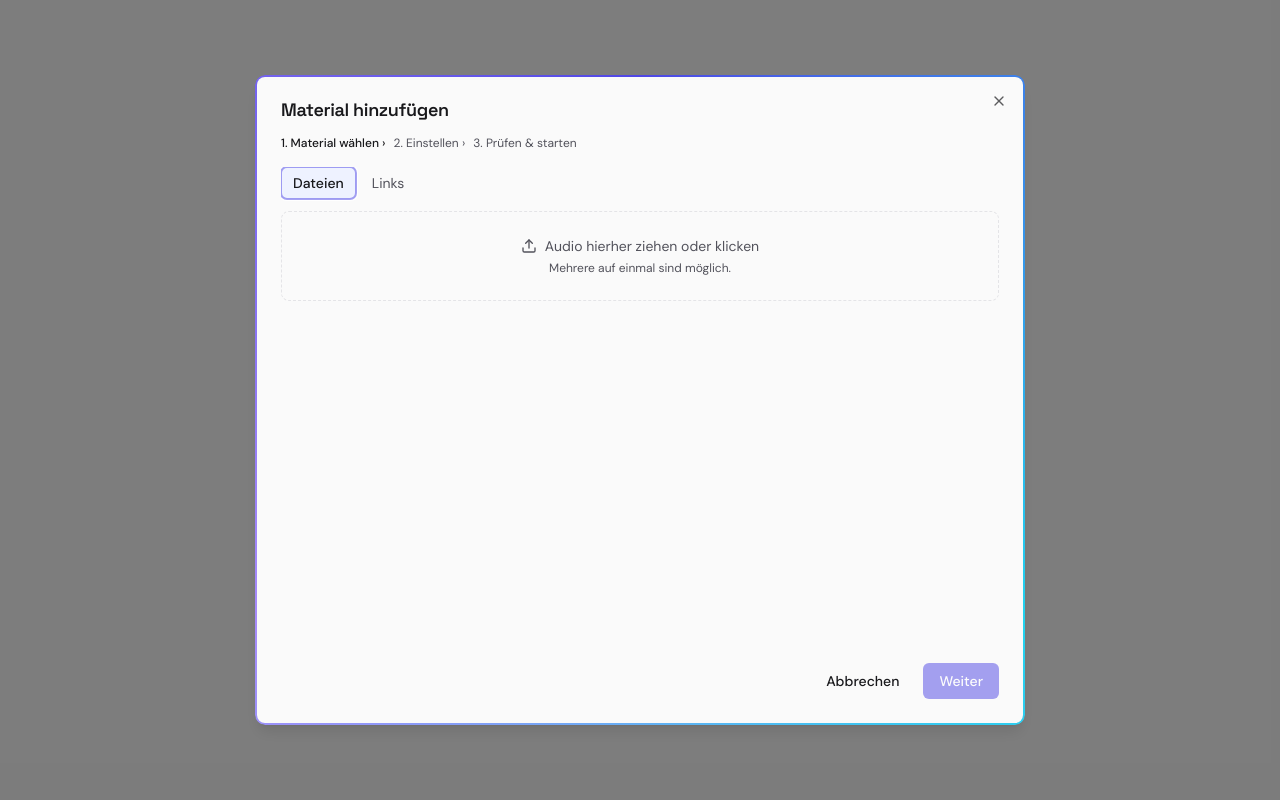
Test case: MaterialDialog › bietet Links nach einem GEWOEHNLICHEN Fehlschlag weiter an
Click the tab "Links" at [388, 183], box [360,167,416,199]
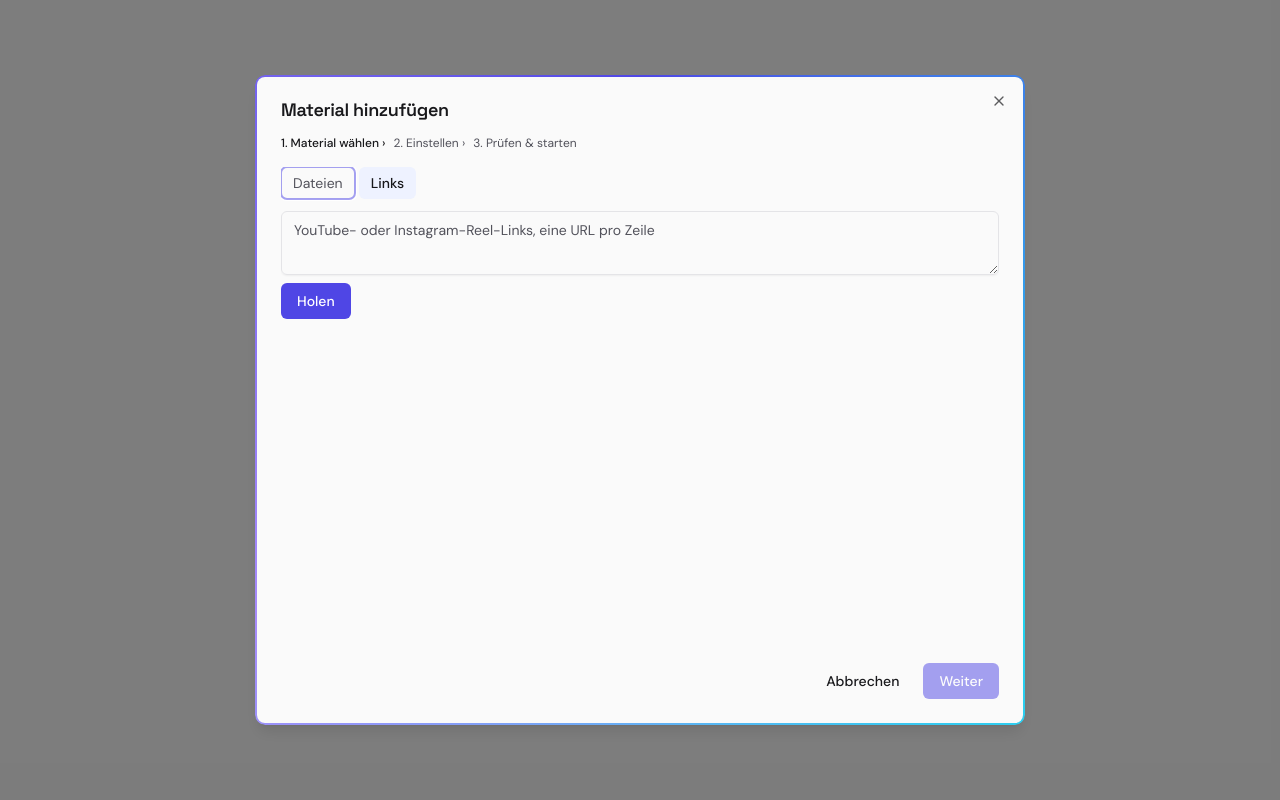
Type "https://youtu.be/bbbbbbbbbbb" into the text box named "Video-URLs" at [640, 243], box [281,211,999,275]
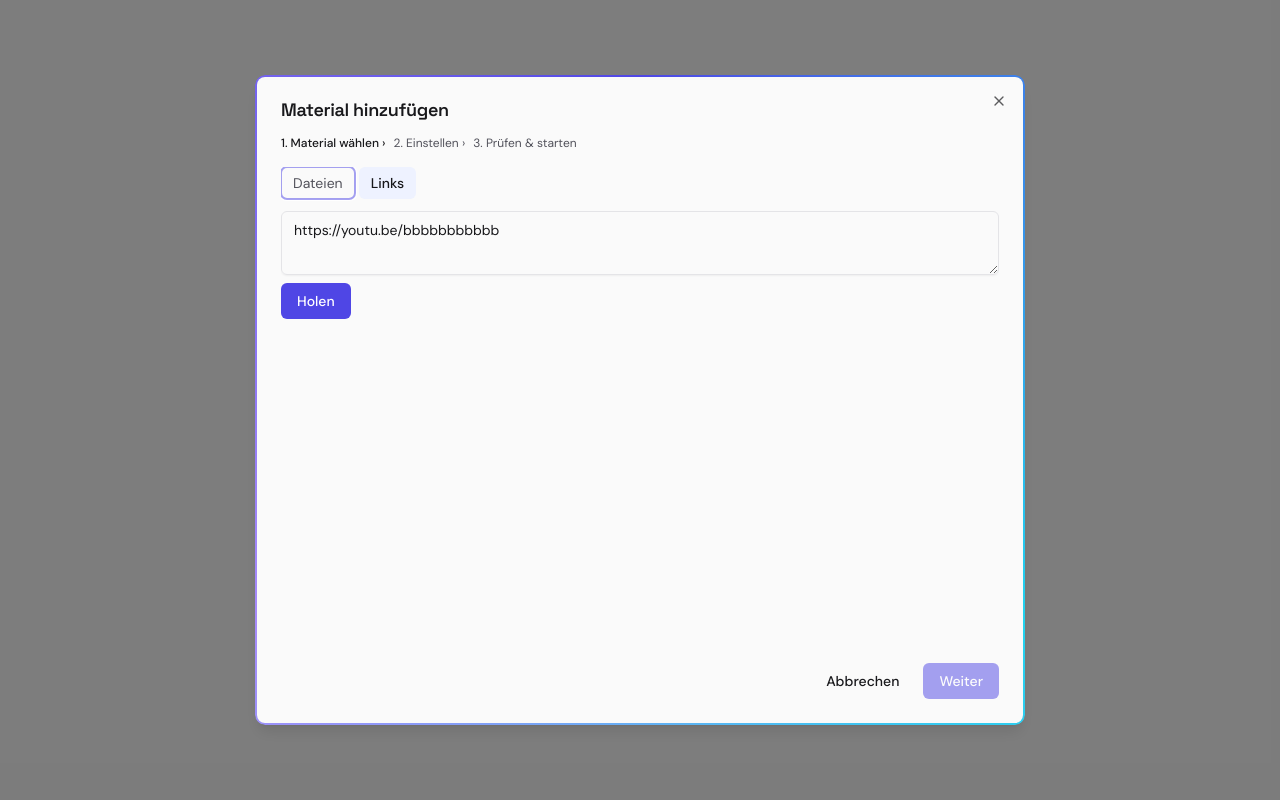
Click the button "Holen" at [316, 301], box [281,283,351,319]
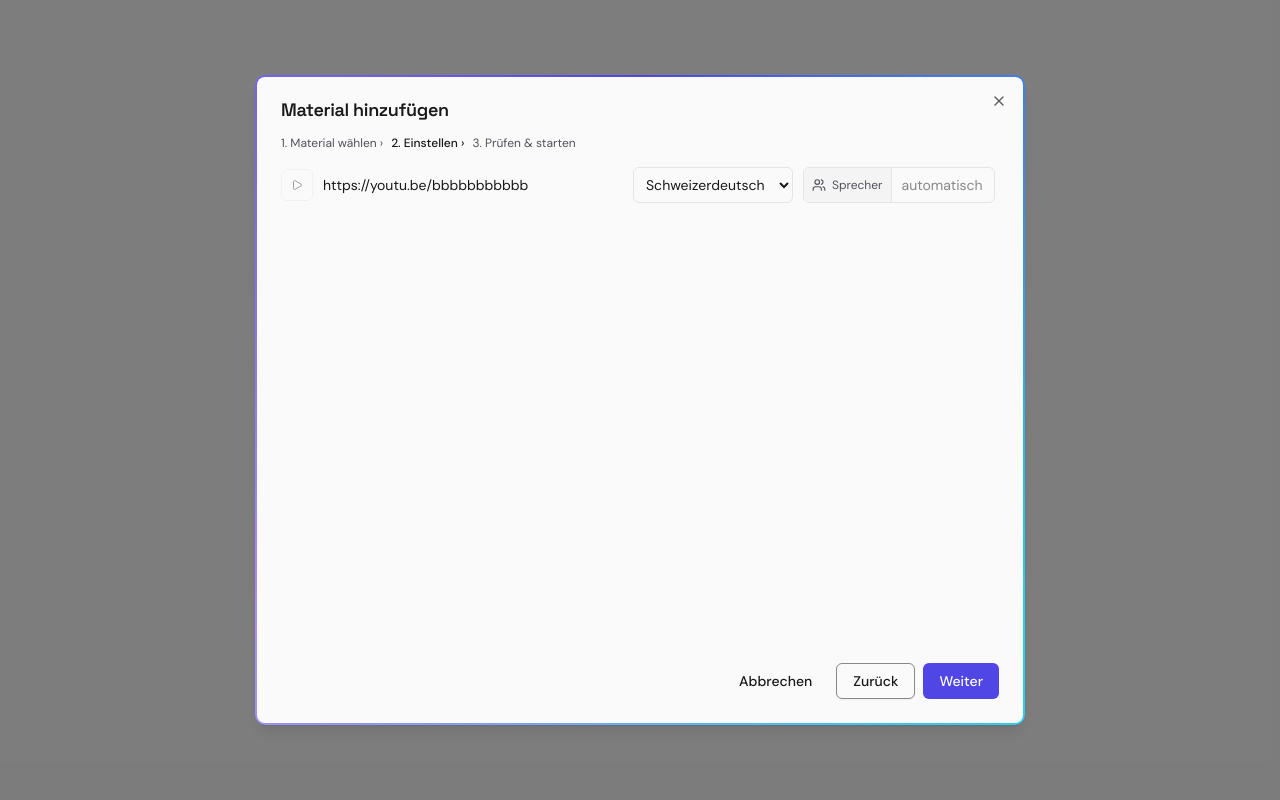
Click the button "Weiter" at [961, 681], box [923,663,999,699]
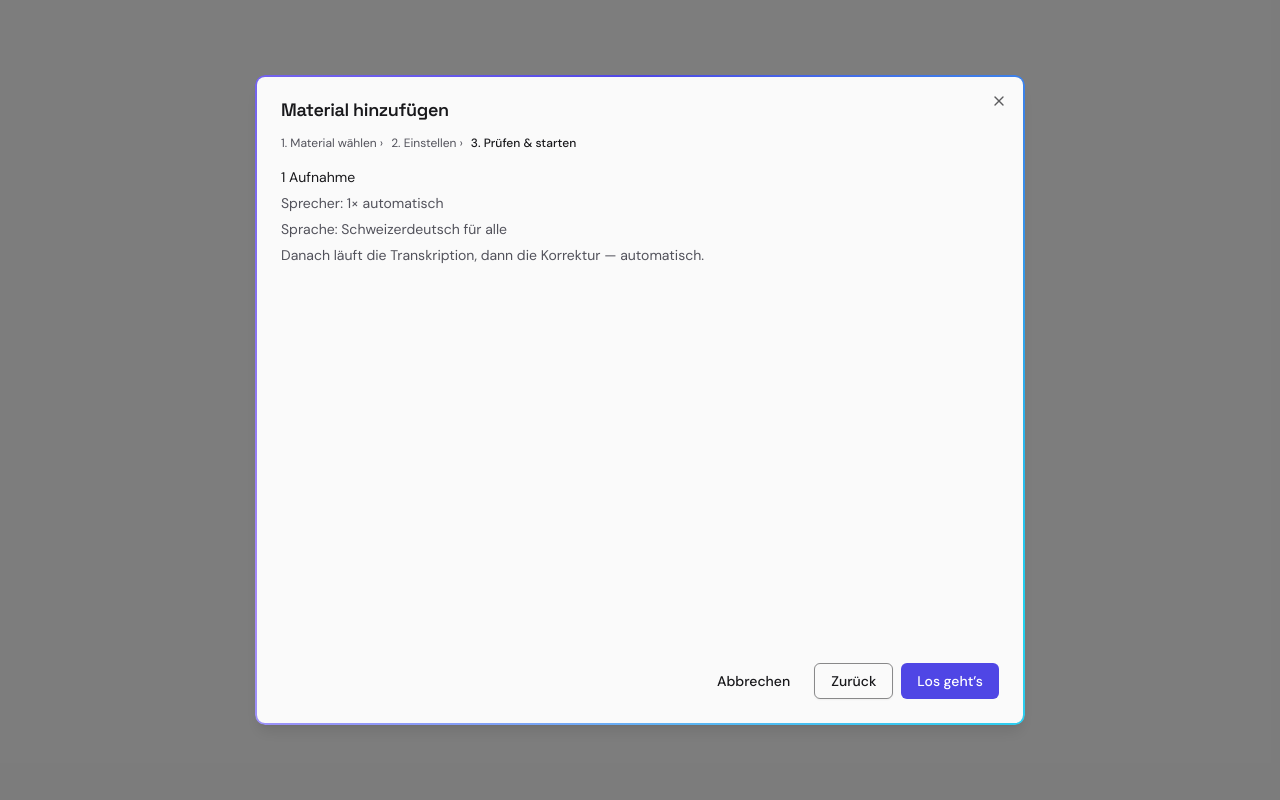
Click the button "Los geht’s" at [950, 681], box [901,663,999,699]
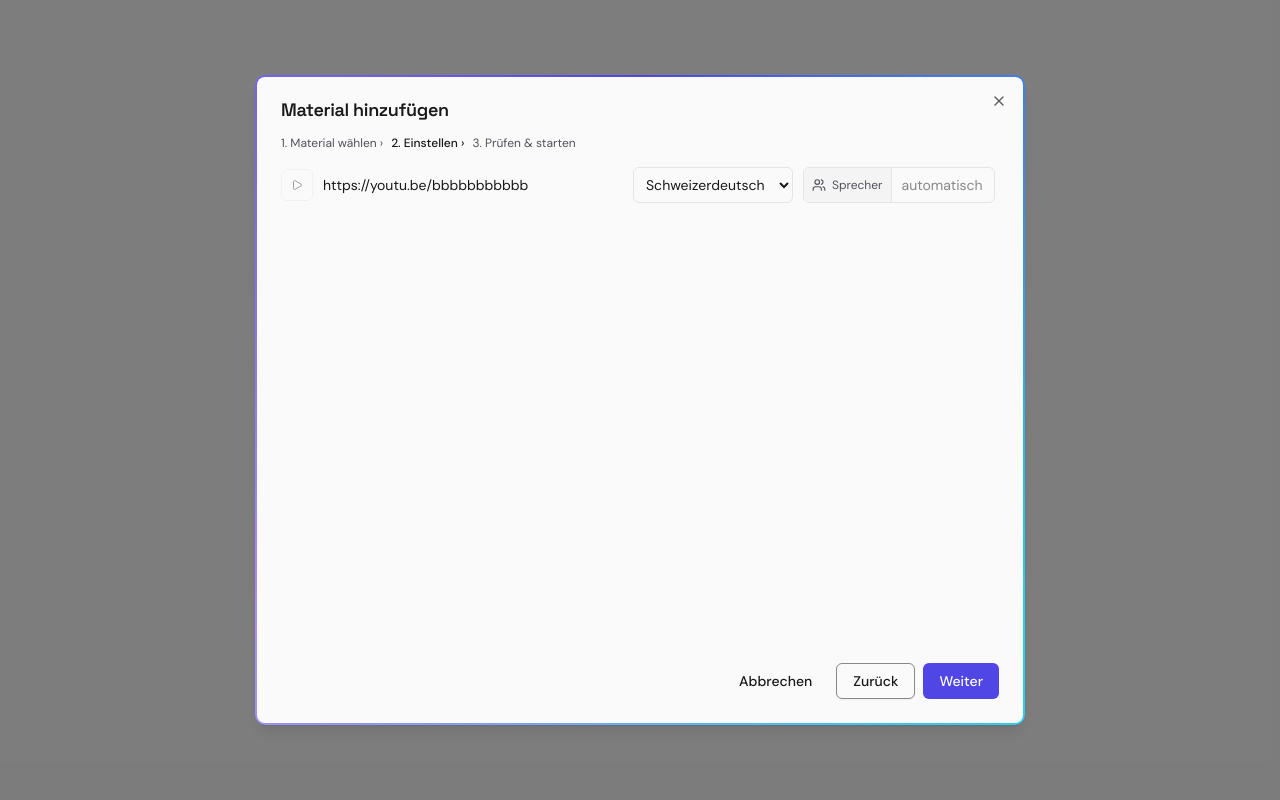
Result: the text "https://youtu.be/bbbbbbbbbbb" is shown at [323,176,528,194]
